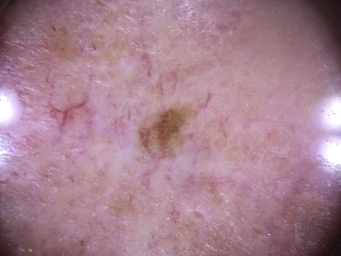melanoma: (139, 106, 190, 158)
